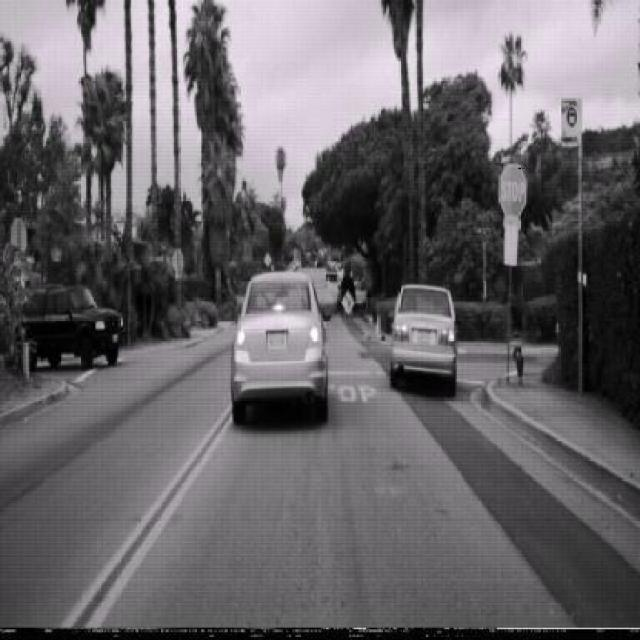stop: (498, 162, 526, 218)
